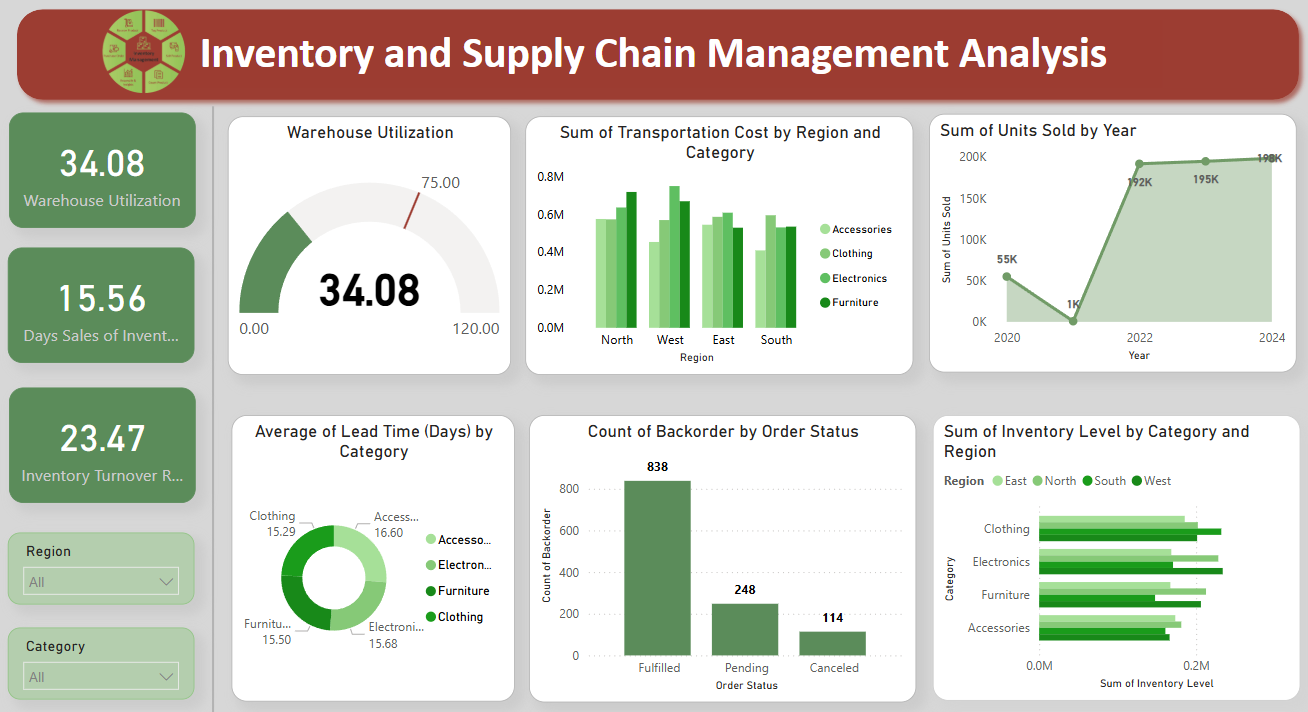

The page's visual inventory and layout, read from the dashboard file:
{"tool":"powerbi","page":{"name":"Page 1","canvas":[1280,720],"ordinal":0},"visuals":[{"type":"shape","box":[9,14.1,1270.5,106.4],"z":0},{"type":"textbox","box":[141.1,34.3,995.3,66.4],"z":1000},{"type":"image","box":[53.8,12.7,174.4,105.6],"z":2000},{"type":"shape","box":[202.6,117.9,12.8,602.6],"z":3000},{"type":"card","fields":{"Values":["Inventory and Supply Chain Dataset.Warehouse Utilization"]},"box":[10.3,124.4,182.1,112.8],"z":4000},{"type":"card","fields":{"Values":["Inventory and Supply Chain Dataset.Days Sales of Inventory"]},"box":[9,256.4,182,113],"z":5000},{"type":"card","fields":{"Values":["Inventory and Supply Chain Dataset.Inventory Turnover Ratio"]},"box":[10.3,393.6,182,113],"z":6000},{"type":"slicer","fields":{"Values":["Inventory and Supply Chain Dataset.Region"]},"box":[9,534.6,182,70],"z":7000},{"type":"slicer","fields":{"Values":["Inventory and Supply Chain Dataset.Category"]},"box":[9,628.2,182,70],"z":8000},{"type":"gauge","fields":{"Y":["Inventory and Supply Chain Dataset.Warehouse Utilization"]},"box":[224.1,128.2,276.9,252.6],"z":9000},{"type":"clusteredColumnChart","fields":{"Series":["Inventory and Supply Chain Dataset.Category"],"Category":["Inventory and Supply Chain Dataset.Region"],"Y":["Sum(Inventory and Supply Chain Dataset.Transportation Cost)"]},"box":[513.8,128.2,379.5,252.6],"z":10000},{"type":"lineChart","fields":{"Y":["Sum(Inventory and Supply Chain Dataset.Units Sold)"],"Category":["Inventory and Supply Chain Dataset.Date.Variation.Date Hierarchy.Year"]},"box":[908.7,125.6,359,252.6],"z":11000},{"type":"donutChart","fields":{"Y":["Avg(Inventory and Supply Chain Dataset.Lead Time (Days))"],"Category":["Inventory and Supply Chain Dataset.Category"]},"box":[227.2,420.5,276.9,280],"z":12000},{"type":"columnChart","fields":{"Y":["CountNonNull(Inventory and Supply Chain Dataset.Backorder)"],"Category":["Inventory and Supply Chain Dataset.Order Status"]},"box":[518.2,420.5,378.2,280.8],"z":13000},{"type":"clusteredBarChart","fields":{"Category":["Inventory and Supply Chain Dataset.Category"],"Y":["Sum(Inventory and Supply Chain Dataset.Inventory Level)"],"Series":["Inventory and Supply Chain Dataset.Region"]},"box":[911.8,420.5,359,279.5],"z":14000}]}

Visuals, with their boxes on the page's 1280x720 design canvas (x1, y1, x2, y2). These are canvas units, not pixel positions in the 1308x712 screenshot, which may show the page scaled, cropped or inside an application window:
shape: 9 14 1280 120
textbox: 141 34 1136 101
image: 54 13 228 118
shape: 203 118 215 720
card - Inventory and Supply Chain Dataset.Warehouse Utilization: 10 124 192 237
card - Inventory and Supply Chain Dataset.Days Sales of Inventory: 9 256 191 369
card - Inventory and Supply Chain Dataset.Inventory Turnover Ratio: 10 394 192 507
slicer - Inventory and Supply Chain Dataset.Region: 9 535 191 605
slicer - Inventory and Supply Chain Dataset.Category: 9 628 191 698
gauge - Inventory and Supply Chain Dataset.Warehouse Utilization: 224 128 501 381
clusteredColumnChart - Inventory and Supply Chain Dataset.Category x Inventory and Supply Chain Dataset.Region: 514 128 893 381
lineChart - Sum(Inventory and Supply Chain Dataset.Units Sold) x Inventory and Supply Chain Dataset.Date.Variation.Date Hierarchy.Year: 909 126 1268 378
donutChart - Avg(Inventory and Supply Chain Dataset.Lead Time (Days)) x Inventory and Supply Chain Dataset.Category: 227 420 504 700
columnChart - CountNonNull(Inventory and Supply Chain Dataset.Backorder) x Inventory and Supply Chain Dataset.Order Status: 518 420 896 701
clusteredBarChart - Inventory and Supply Chain Dataset.Category x Sum(Inventory and Supply Chain Dataset.Inventory Level): 912 420 1271 700
